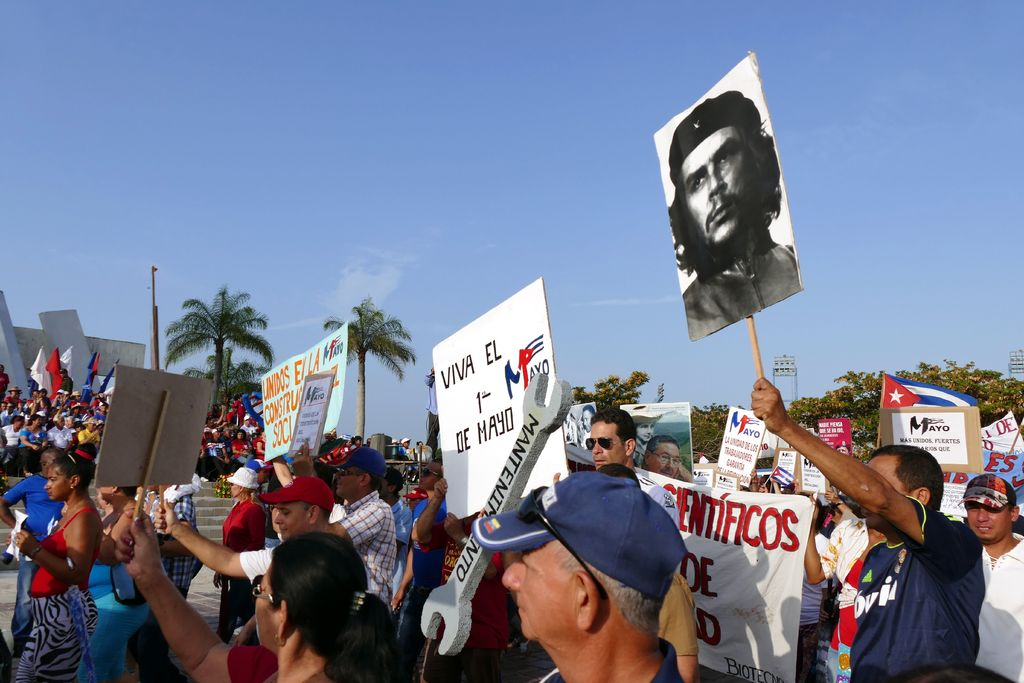Human_hand: (749, 375, 811, 448), (113, 505, 163, 580), (152, 498, 180, 535), (13, 526, 40, 560), (290, 441, 314, 476), (444, 509, 463, 538), (391, 586, 404, 613), (435, 476, 449, 501), (232, 631, 253, 646), (824, 486, 841, 502), (210, 570, 223, 590), (807, 494, 815, 525), (817, 606, 829, 621), (550, 470, 562, 484), (748, 465, 758, 481), (757, 481, 769, 493), (475, 506, 486, 519), (259, 428, 269, 441), (576, 415, 585, 429), (5, 531, 12, 547), (240, 448, 252, 457), (767, 476, 780, 484), (30, 441, 40, 451), (223, 456, 232, 467), (794, 476, 799, 495), (91, 427, 100, 436), (196, 450, 205, 459), (93, 437, 100, 448), (220, 404, 228, 413)
